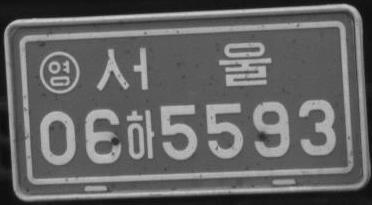0: (39, 110, 76, 167)
3: (298, 97, 337, 157)
5: (159, 103, 198, 161), (205, 102, 243, 159)
6: (83, 107, 122, 165)
9: (252, 100, 290, 158)
서울_D: (96, 40, 272, 92)
영: (39, 51, 80, 94)
하: (126, 109, 155, 159)
